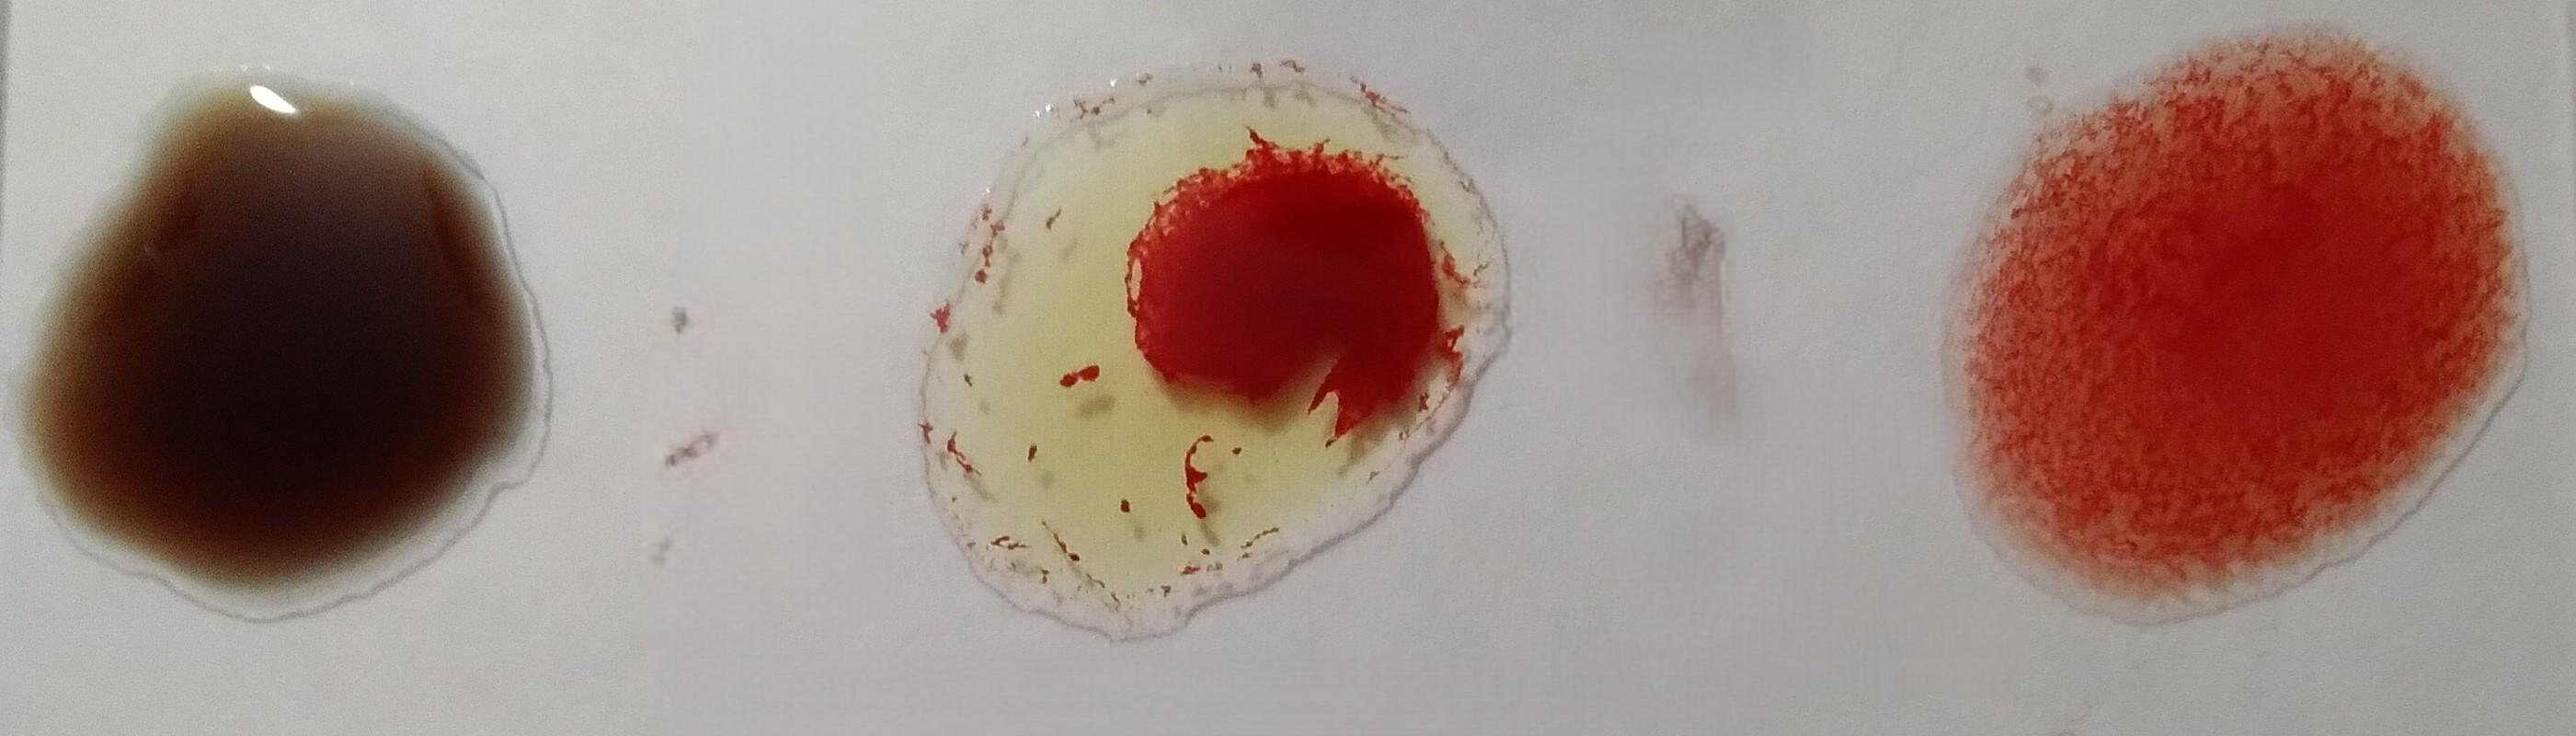B: (966, 38, 1460, 652)
D: (1985, 53, 2477, 628)
